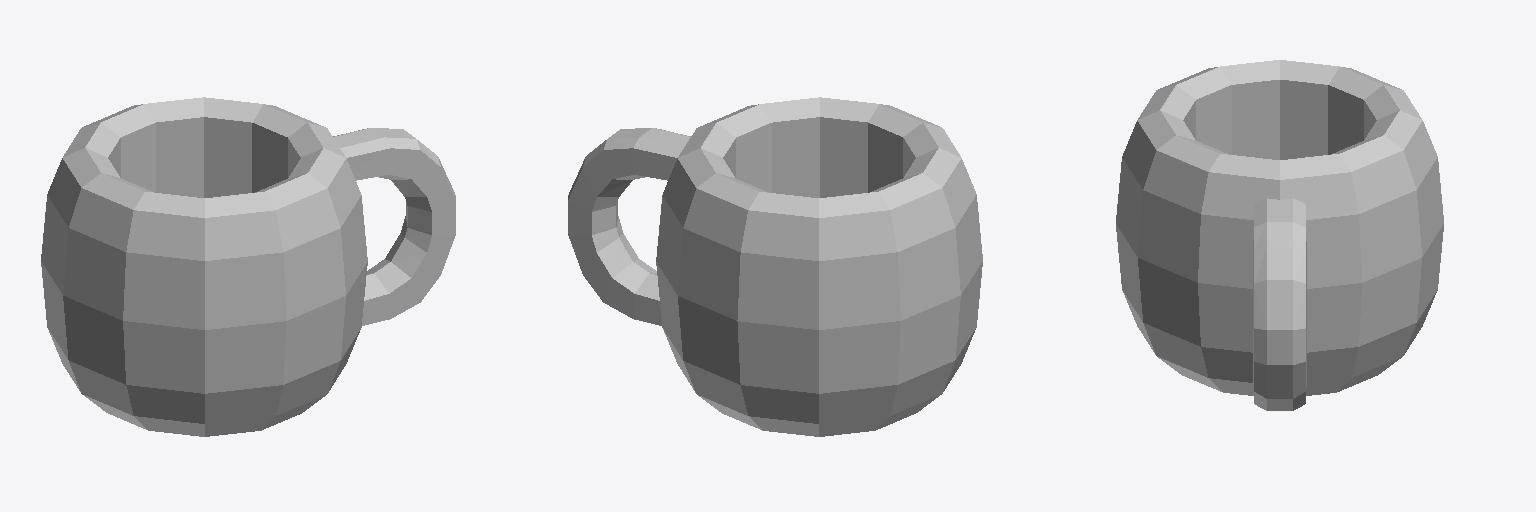
Rendered from mug_A_yellow.obj.
3 renders of one model, left to right at view 1: azimuth 30°, elevation 25°; view 2: azimuth 150°, elevation 25°; view 3: azimuth 270°, elevation 25°, orthographic.
Parts seen in each view (by area): view 1: mug_A_yellow; view 2: mug_A_yellow; view 3: mug_A_yellow.
Part boxes in pixels (bbox=[...]): mug_A_yellow: bbox=[41, 97, 455, 436]; mug_A_yellow: bbox=[568, 97, 982, 436]; mug_A_yellow: bbox=[1116, 60, 1443, 410].
Bounding box in the file's own units: 0.5851 × 0.35 × 0.4315.